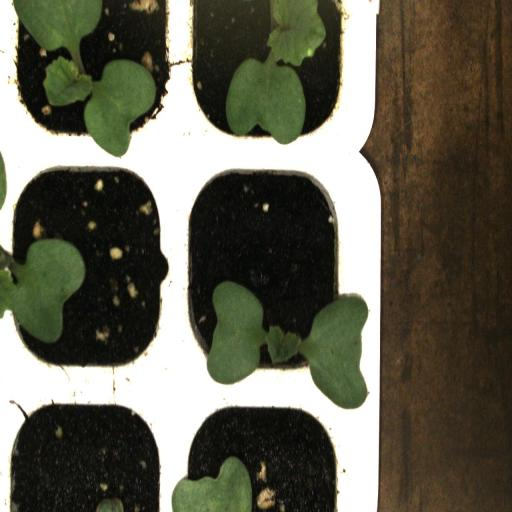seedling: (178, 162, 358, 393), (0, 156, 174, 388), (181, 0, 358, 158), (9, 0, 179, 163)
